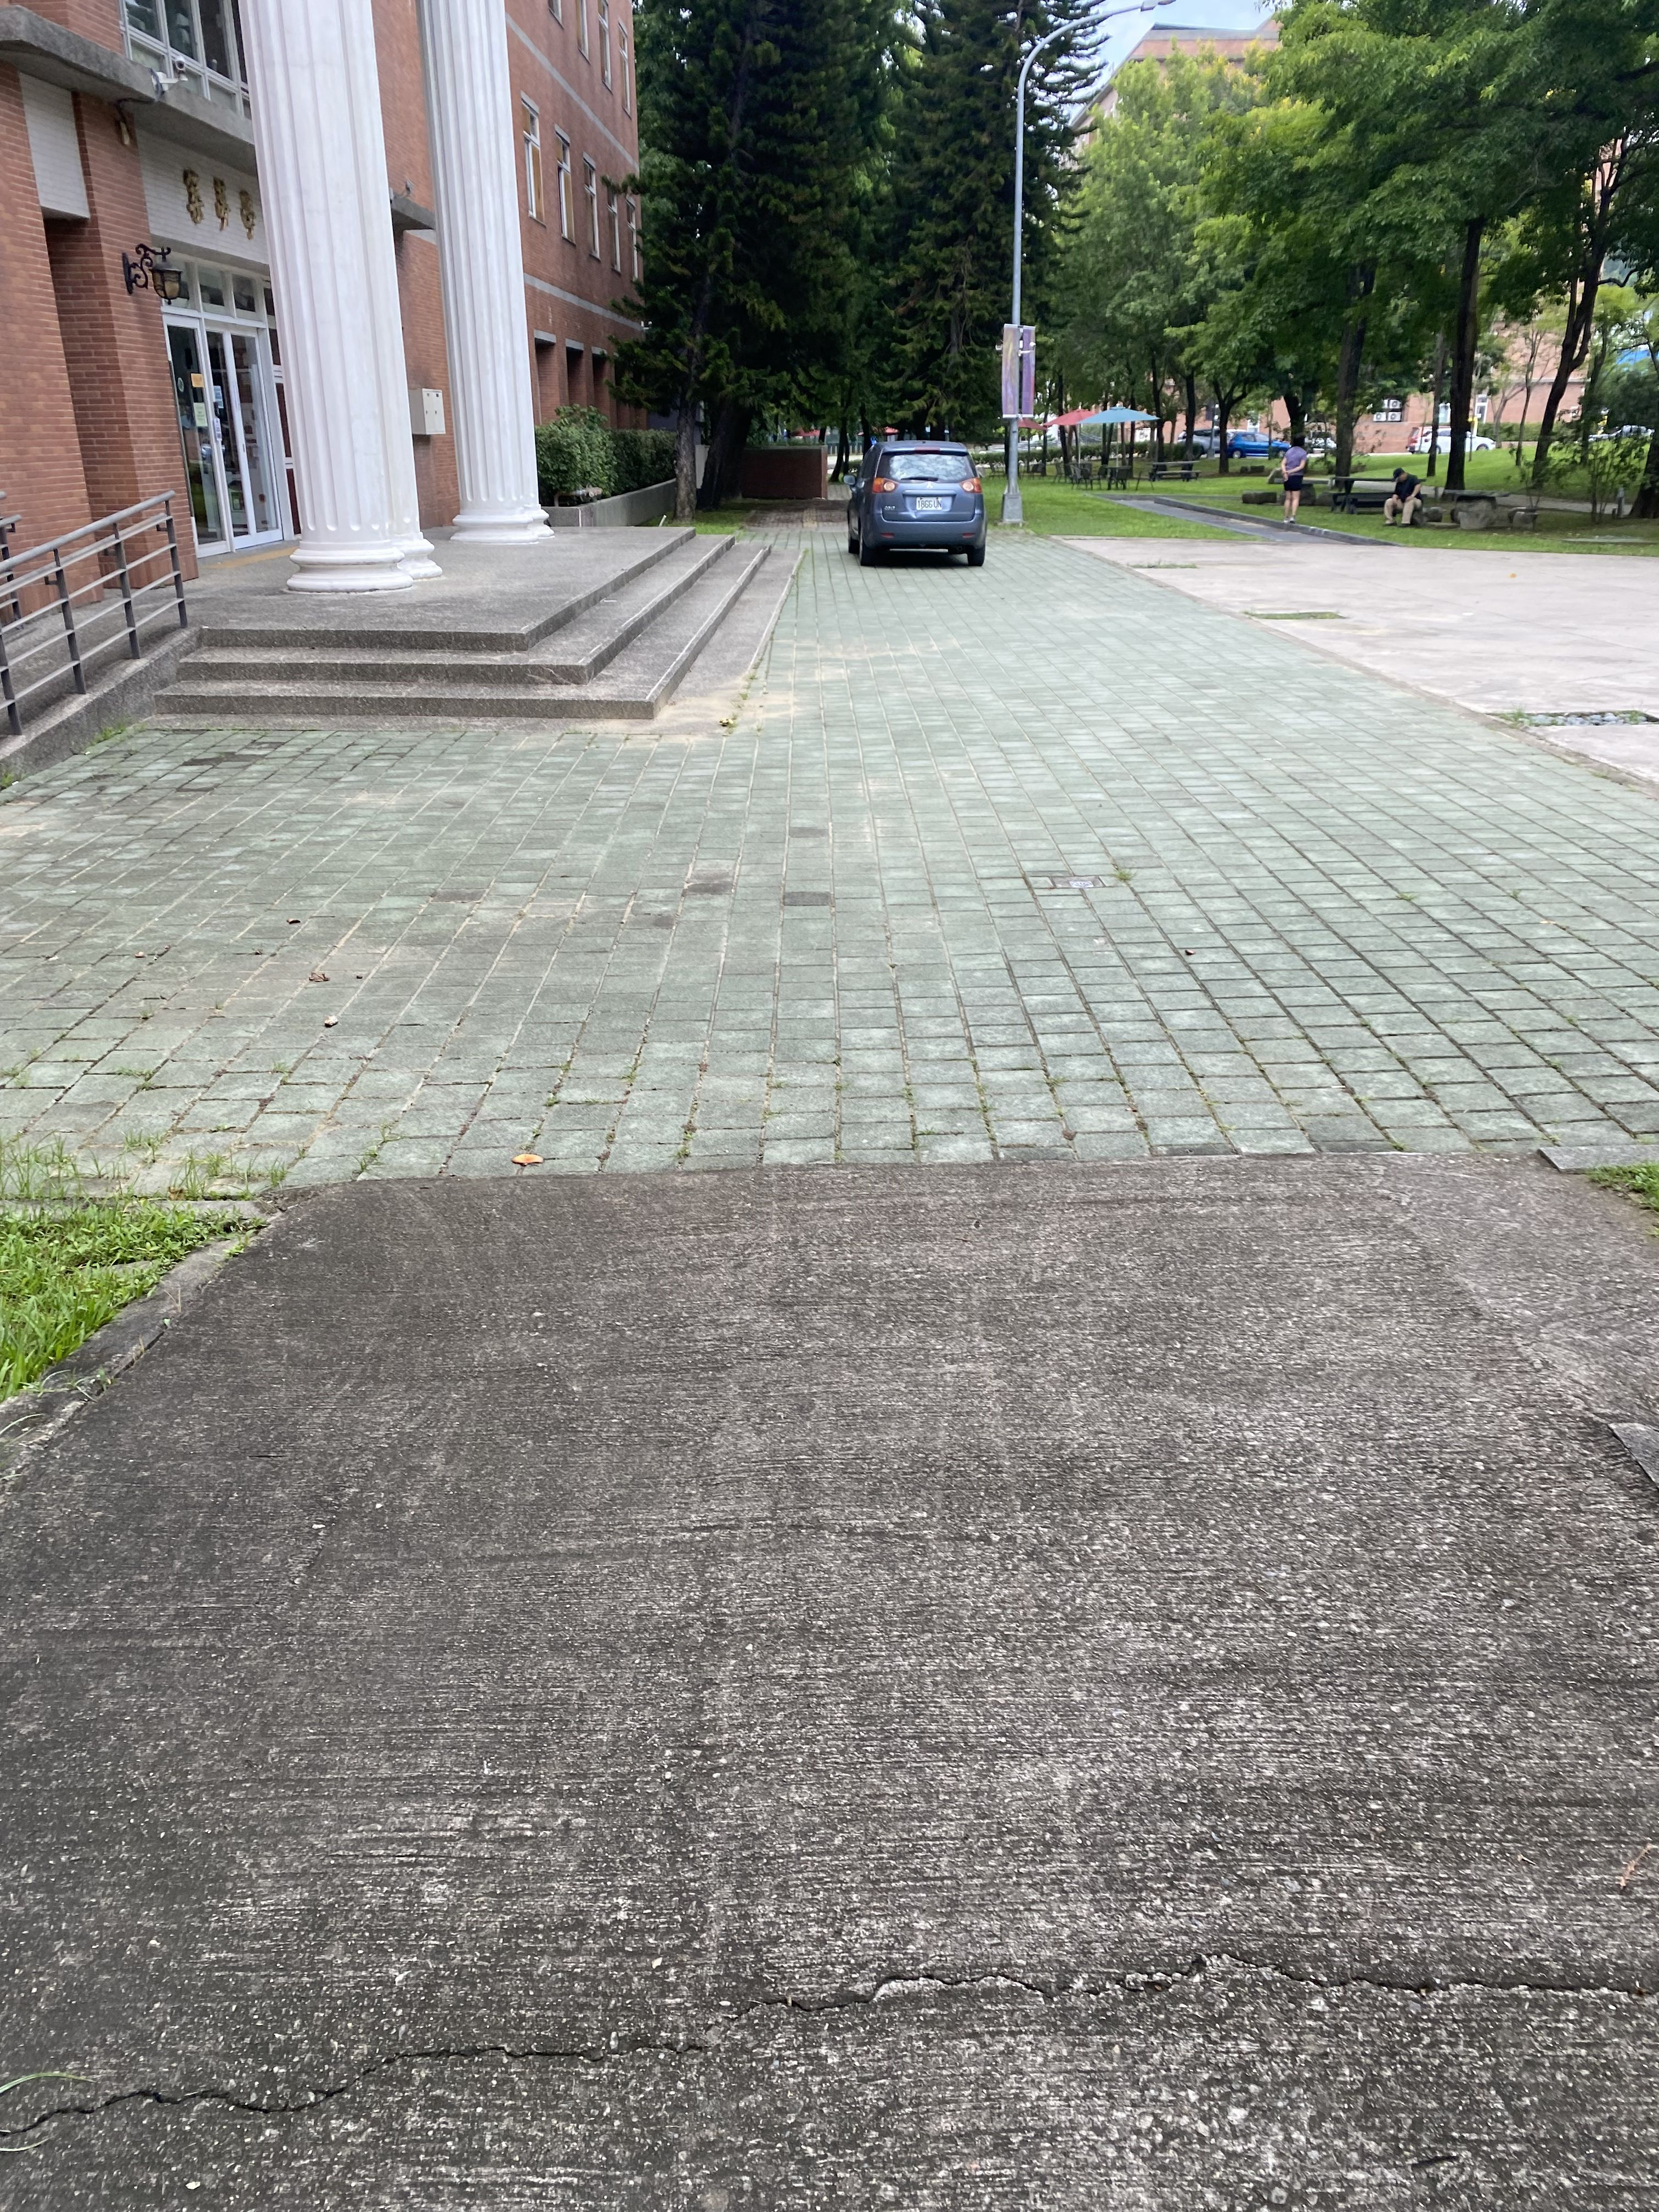sidewalk: (3, 524, 1659, 2212)
